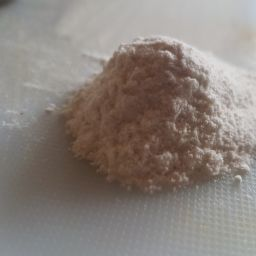Plain flour: (70, 33, 256, 193), (42, 52, 246, 193), (6, 67, 210, 204)
